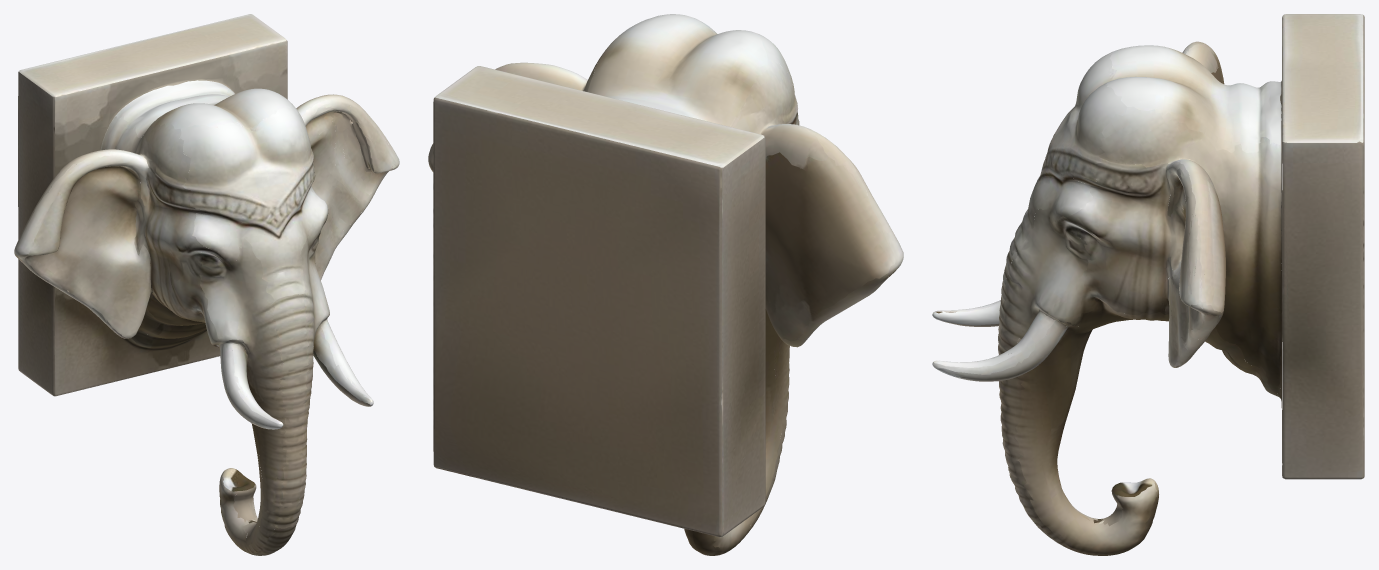
File: hero_white_elephant.glb
3 views of the same model, side by side, from view 1: azimuth 30°, elevation 25°; view 2: azimuth 150°, elevation 25°; view 3: azimuth 270°, elevation 25° (orthographic). The views are drawn at different scales.
Parts seen in each view (by area): view 1: hero_white_elephant_shape.ply; view 2: hero_white_elephant_shape.ply; view 3: hero_white_elephant_shape.ply.
Part boxes in pixels (left/top/right/bottom): hero_white_elephant_shape.ply: left=14, top=14, right=399, bottom=555; hero_white_elephant_shape.ply: left=428, top=14, right=903, bottom=555; hero_white_elephant_shape.ply: left=932, top=14, right=1364, bottom=555.
Bounding box in the file's own units: 0.918 × 1 × 0.8042.
Materials: 1 (1 with a texture image).
